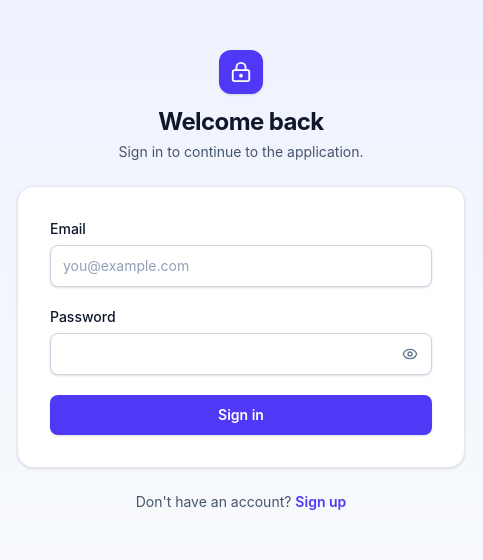
auth flow › shows a generic error for wrong credentials
The width and height of the screenshot is (483, 560).
Type "jane@example.com" into the field labelled "Email". click: (241, 266)
box: [50, 245, 432, 287]
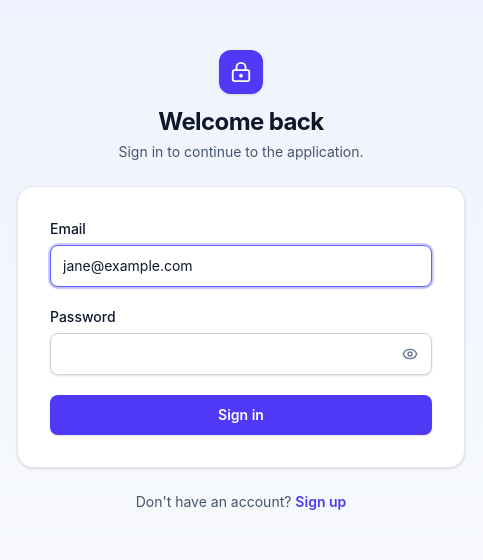
Type "Wr0ng-pass!" into the password field labelled "Password". click: (241, 354)
box: [50, 333, 432, 375]
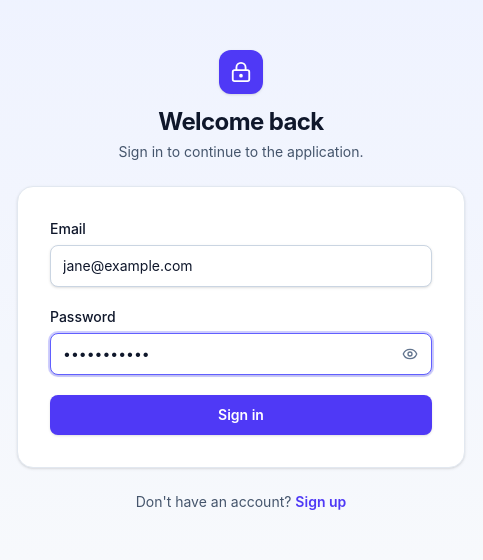
Click the button "Sign in". click: (241, 415)
box: [50, 395, 432, 435]
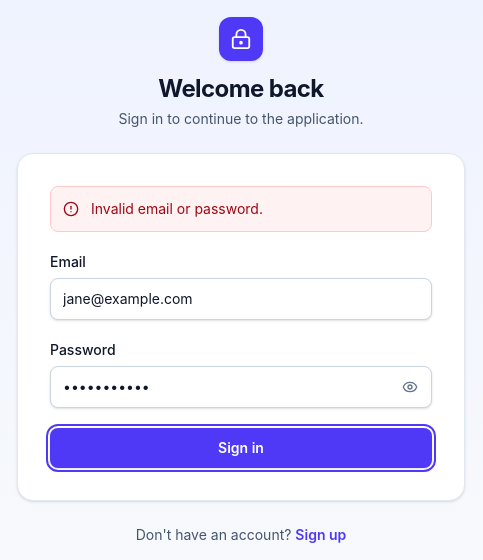
expect the message reads "Invalid email or password.": met, box [91, 200, 263, 217]
